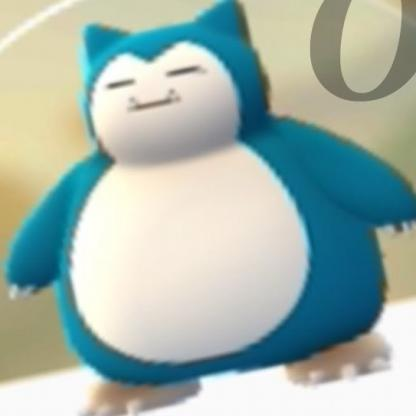Snorlax: (20, 1, 403, 402)
